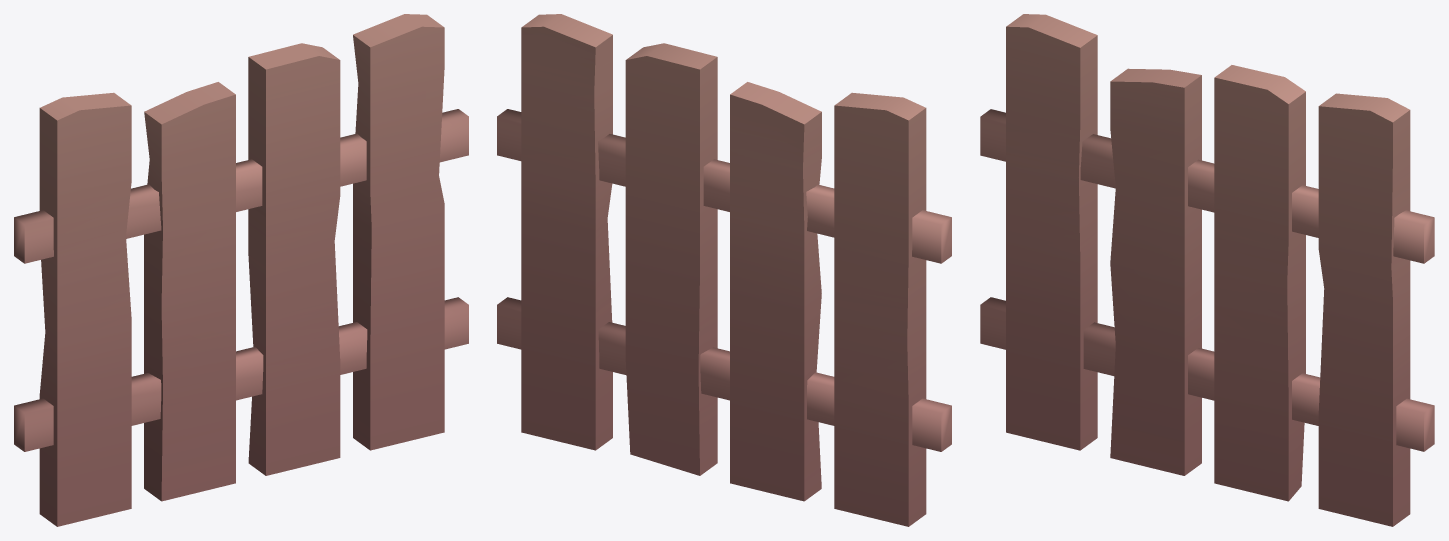
Rendered from Fence_Frontal2.glb.
3 views of the same model, side by side, from view 1: azimuth 30°, elevation 25°; view 2: azimuth 150°, elevation 25°; view 3: azimuth 330°, elevation 25° (orthographic).
Parts seen in each view (by area): view 1: Fence_Frontal2; view 2: Fence_Frontal2; view 3: Fence_Frontal2.
Part boxes in pixels (box(x1,y1,x2,y2)): Fence_Frontal2: box(14, 14, 468, 526); Fence_Frontal2: box(497, 14, 951, 526); Fence_Frontal2: box(980, 14, 1434, 526).
Size of the model in its own units: 0.5 by 0.4421 by 0.034.
Materials: 1 (1 with a texture image).
